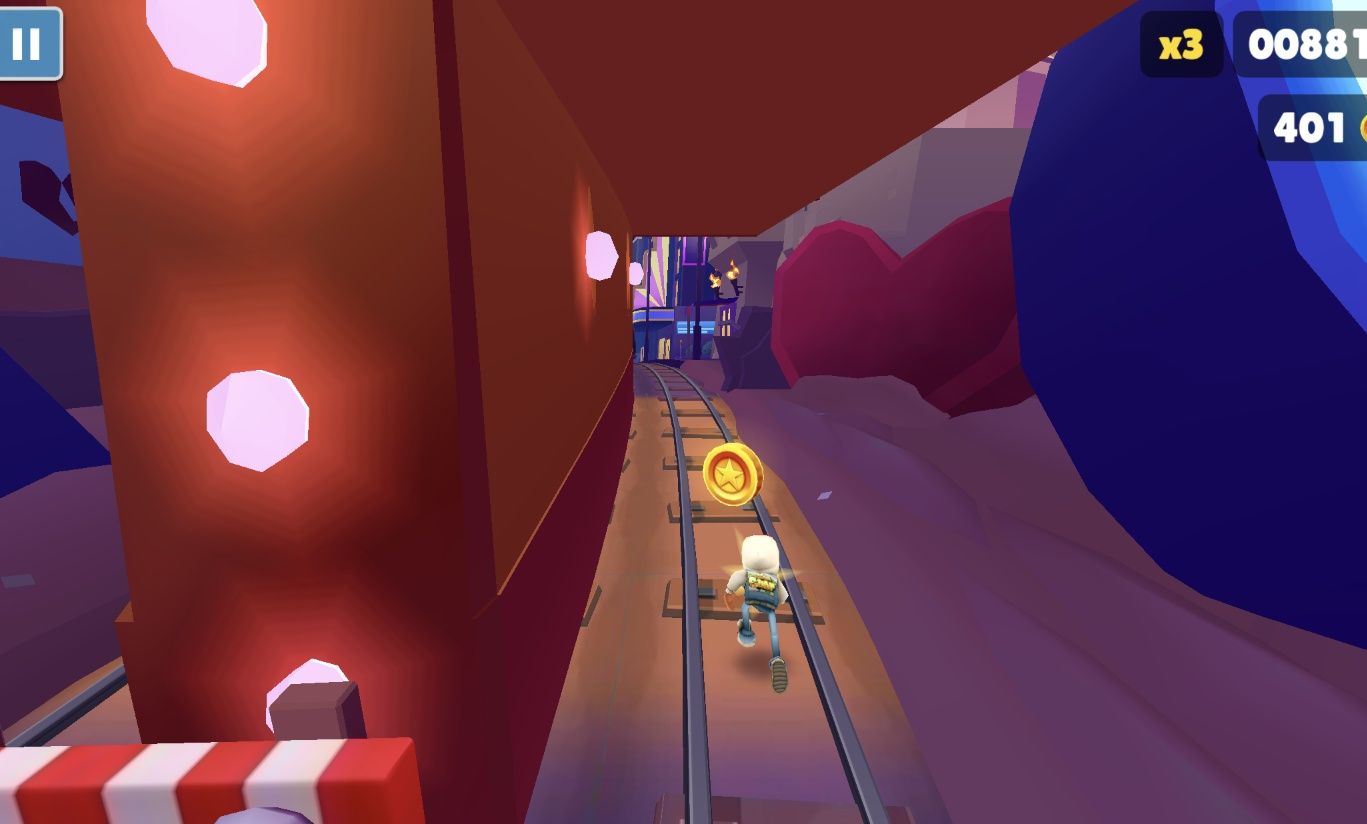ground_barrier: (0, 735, 423, 824)
pillar: (34, 0, 634, 824)
